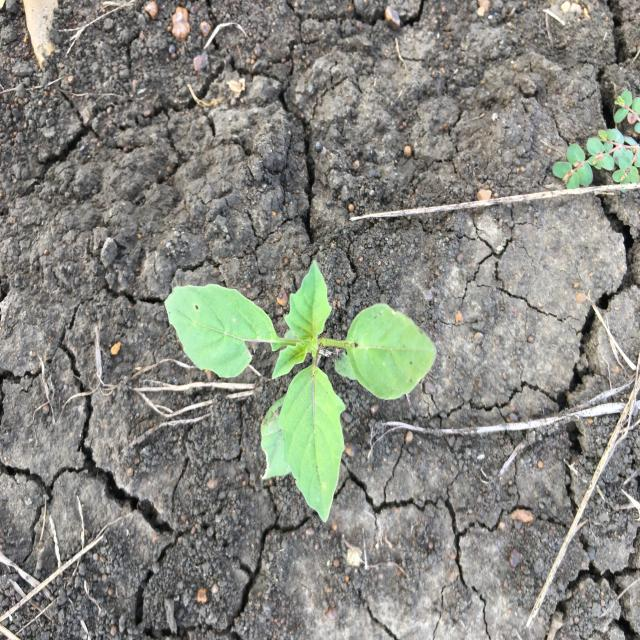CutleafGroundcherry: (163, 258, 439, 523)
SpottedSpurge: (550, 86, 639, 196)
